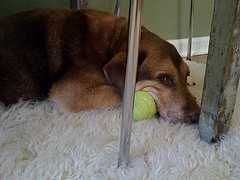tennis ball: (123, 88, 159, 123)
